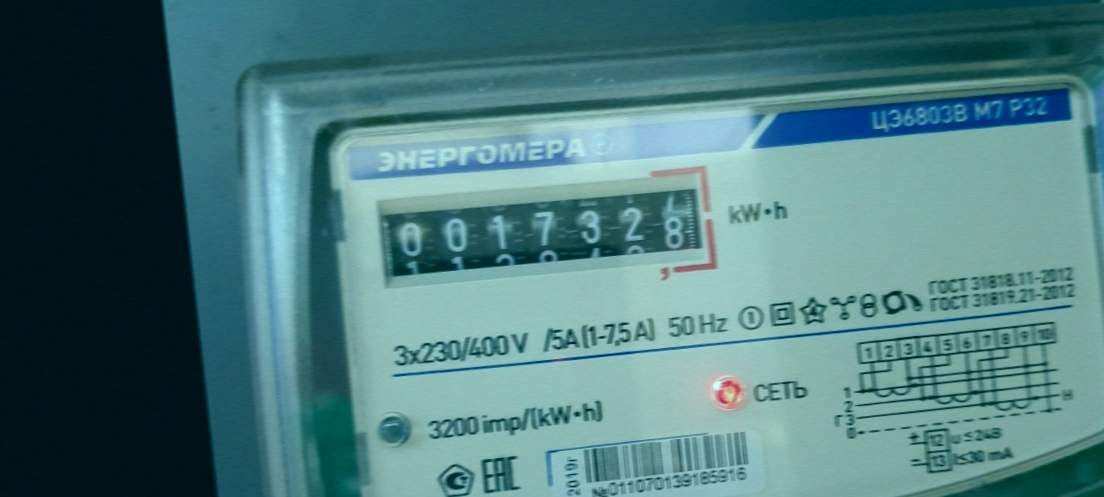0: (395, 217, 425, 259), (443, 213, 469, 254)
1: (487, 210, 510, 252)
2: (619, 203, 645, 242)
3: (577, 206, 603, 245)
7: (532, 207, 558, 248)
8: (661, 212, 684, 249)
screen: (364, 159, 728, 313)
